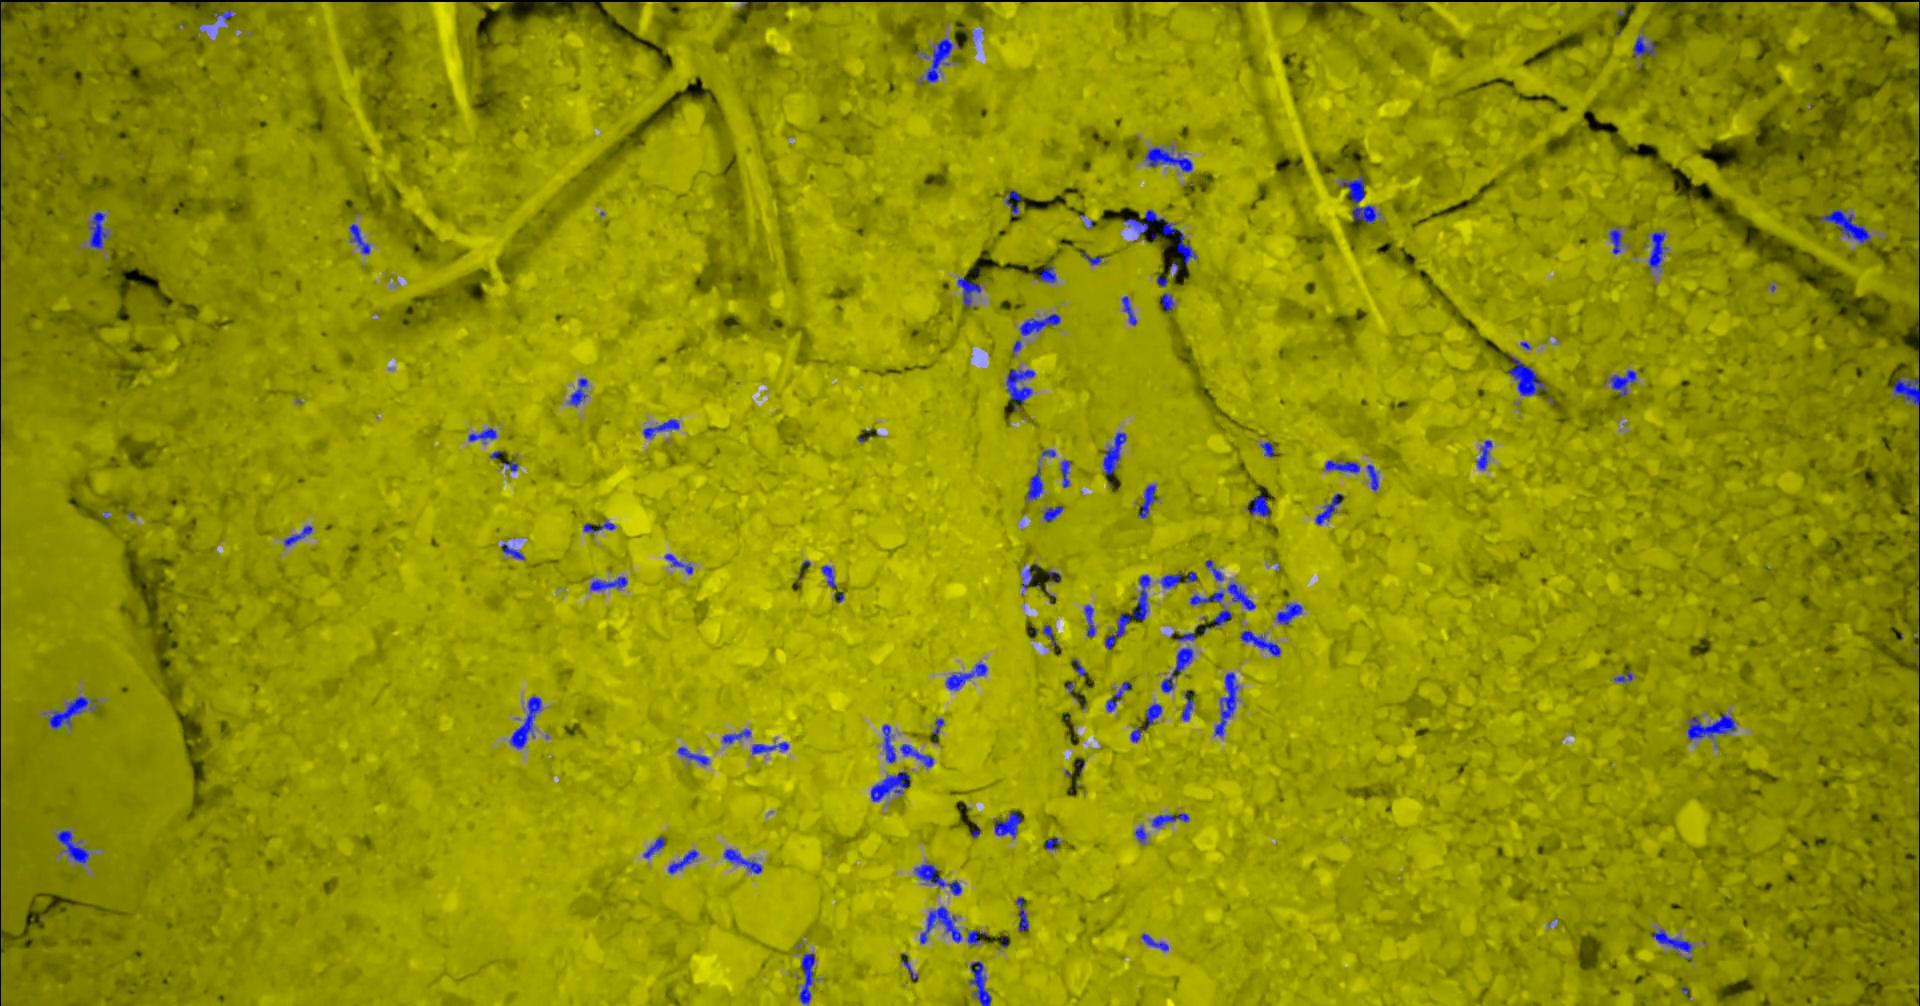ant: (1123, 210, 1196, 265), (1103, 574, 1150, 649), (1341, 173, 1379, 224), (1818, 208, 1870, 243), (509, 696, 541, 748), (919, 904, 961, 942), (1214, 671, 1238, 735), (914, 862, 961, 895), (924, 38, 959, 83), (1509, 354, 1545, 395), (1161, 647, 1192, 692), (47, 696, 93, 728), (1688, 713, 1735, 739), (870, 771, 910, 801), (1144, 146, 1192, 171), (1006, 368, 1034, 409), (56, 829, 89, 862), (1102, 432, 1126, 475), (1239, 630, 1280, 655), (945, 663, 985, 688), (1018, 312, 1060, 335), (969, 962, 990, 1005), (1651, 929, 1691, 951), (1314, 493, 1343, 525), (723, 848, 761, 873), (797, 953, 814, 1005), (1892, 376, 1919, 405), (1105, 681, 1130, 711), (667, 848, 698, 873), (900, 743, 933, 766), (1227, 583, 1255, 610), (1648, 231, 1667, 269), (1609, 370, 1636, 396), (994, 810, 1021, 837), (643, 419, 679, 438), (89, 211, 107, 248), (1138, 484, 1157, 518), (957, 277, 980, 305), (349, 224, 370, 253), (283, 525, 312, 545), (676, 746, 709, 763), (1275, 602, 1302, 624), (664, 553, 692, 573), (1026, 466, 1043, 499), (568, 377, 587, 405), (881, 724, 895, 762), (1150, 813, 1189, 827), (589, 575, 626, 589), (643, 836, 665, 857), (750, 741, 789, 753), (1189, 591, 1223, 605), (1246, 495, 1269, 516), (1015, 897, 1029, 930), (1142, 702, 1161, 727), (1121, 296, 1137, 325), (1476, 439, 1491, 469), (1142, 934, 1168, 950), (1633, 36, 1655, 56), (1324, 460, 1359, 473), (723, 728, 750, 743), (1003, 191, 1020, 216), (469, 427, 497, 441), (1205, 559, 1223, 580), (502, 542, 524, 559), (583, 521, 615, 532), (1181, 688, 1192, 720), (1035, 265, 1055, 282), (902, 959, 917, 981), (1084, 605, 1095, 636), (822, 565, 836, 588), (1043, 624, 1057, 647), (1211, 608, 1230, 625), (966, 929, 987, 944), (1609, 229, 1622, 253), (1366, 464, 1378, 490), (1043, 506, 1062, 521), (1161, 573, 1180, 588), (1081, 251, 1101, 265), (1060, 459, 1070, 486), (932, 718, 943, 739), (1161, 292, 1173, 311), (1258, 441, 1272, 457), (1175, 630, 1195, 640), (1073, 658, 1084, 676), (1613, 671, 1630, 682), (1134, 826, 1145, 842), (1130, 727, 1142, 742), (1044, 837, 1059, 848)
